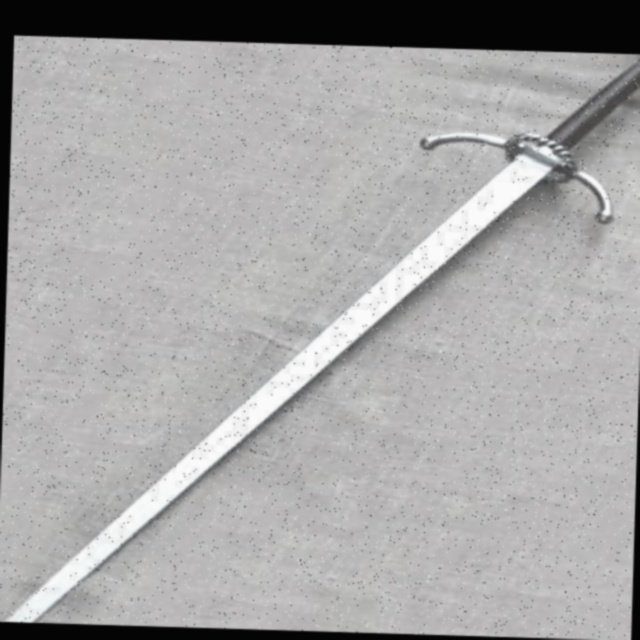Sharp-Object: (12, 38, 613, 640)
